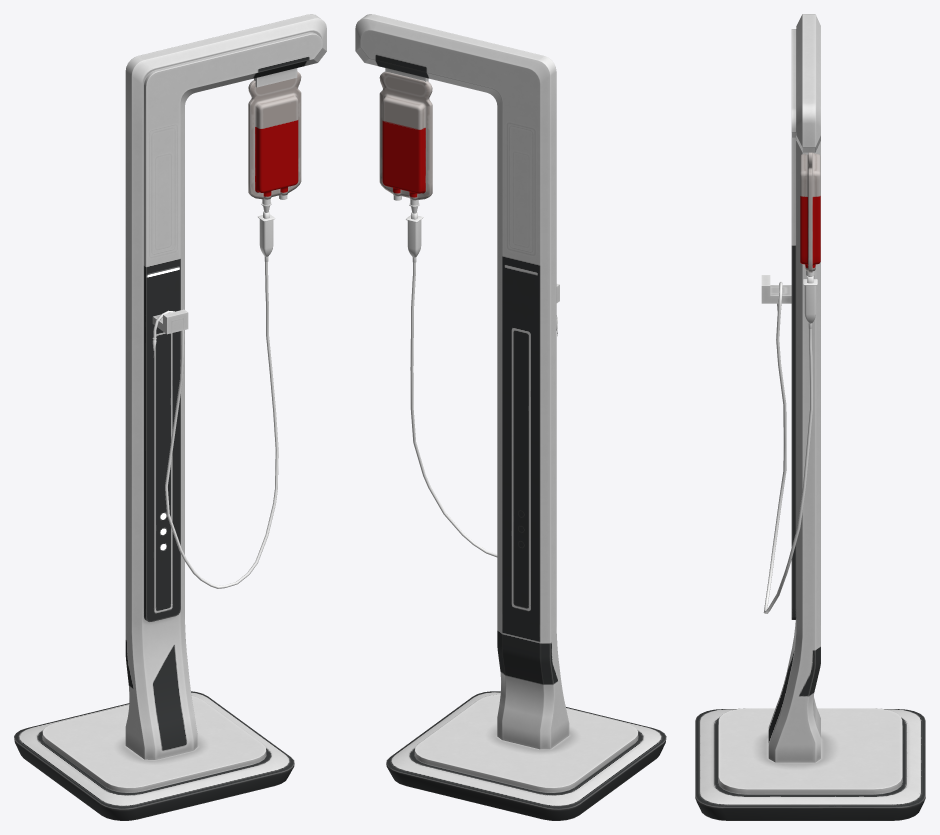
The model's file is MedInfusionStand01.FBX.
The picture shows the model from 3 angles, left to right: view 1: azimuth 30°, elevation 25°; view 2: azimuth 150°, elevation 25°; view 3: azimuth 270°, elevation 25°; orthographic projection. The views are drawn at different scales.
Visible parts, largest first — view 1: MedInfusionStand01; view 2: MedInfusionStand01; view 3: MedInfusionStand01.
Boxes of the visible parts, left/top/right/bottom form: MedInfusionStand01: left=14, top=14, right=326, bottom=820; MedInfusionStand01: left=355, top=14, right=666, bottom=820; MedInfusionStand01: left=695, top=14, right=925, bottom=820.
Size of what is drawn, in the model's own units: 0.743 by 1.91 by 0.5303.
